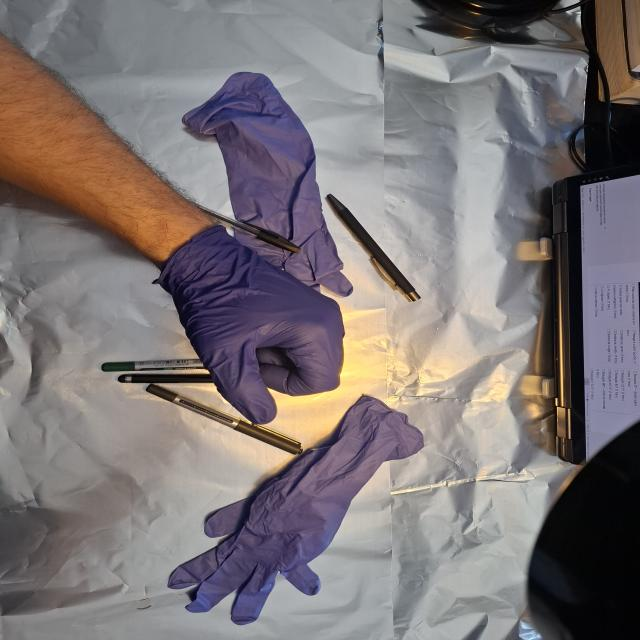glove_on: (163, 228, 350, 428)
